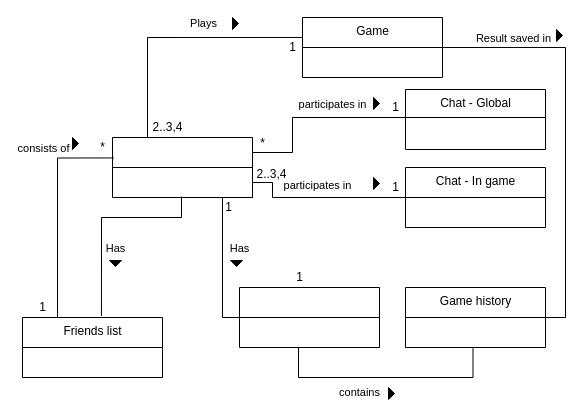
This 584x417 diagram has some shape labels left out. The shapes that lost their labels are listed below. From the top down, each one's box as (x1, y1, x2, y2) in pixels, then its label:
(112, 136, 252, 198): User
(238, 286, 380, 348): Profile
